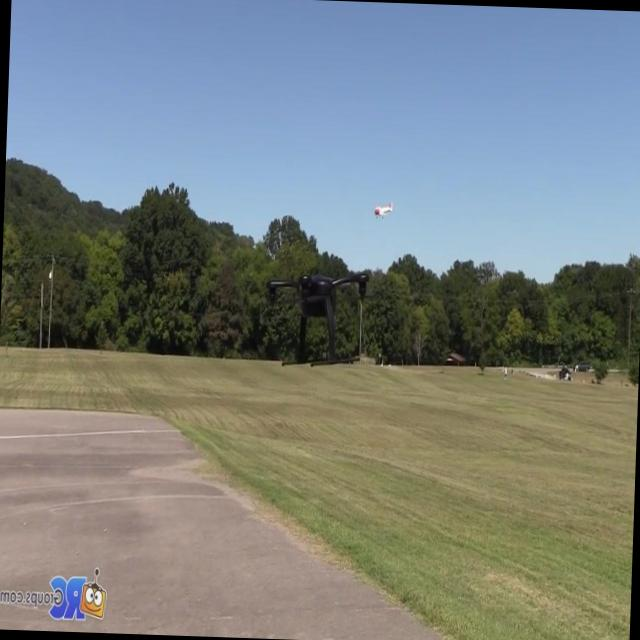drone: (262, 265, 370, 375)
